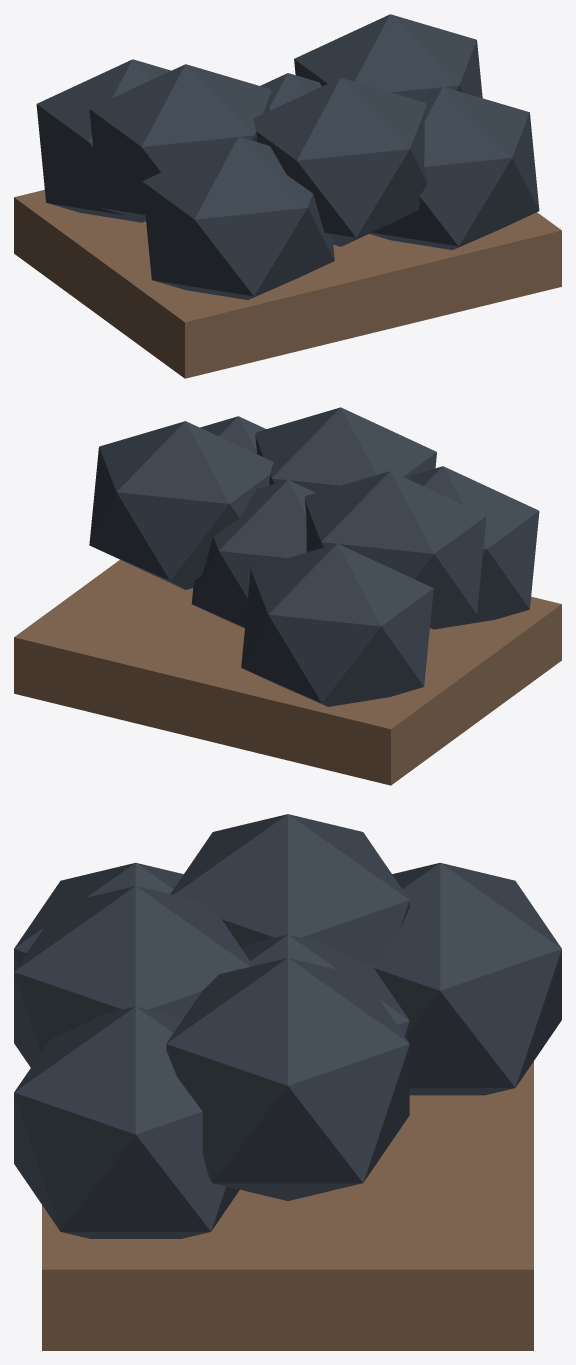
Rendered from var_ore_stack.glb.
3 renders of one model, top to bottom at view 1: azimuth 30°, elevation 25°; view 2: azimuth 150°, elevation 25°; view 3: azimuth 270°, elevation 25°, orthographic. The views are drawn at different scales.
Parts seen in each view (by area): view 1: var_ore_stack; view 2: var_ore_stack; view 3: var_ore_stack.
Part boxes in pixels (box(x1,y1,x2,y2)): var_ore_stack: box(14, 14, 561, 378); var_ore_stack: box(14, 407, 561, 785); var_ore_stack: box(14, 814, 561, 1350).
Bounding box in the file's own units: 1.4 × 0.82 × 1.22.
